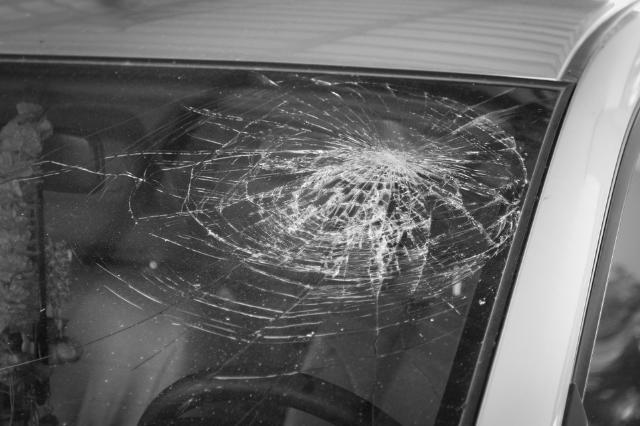Windshield: (0, 62, 477, 426)
